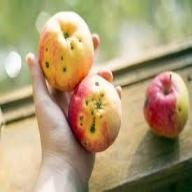apple: (68, 73, 122, 150), (38, 10, 93, 85), (144, 72, 192, 138)
